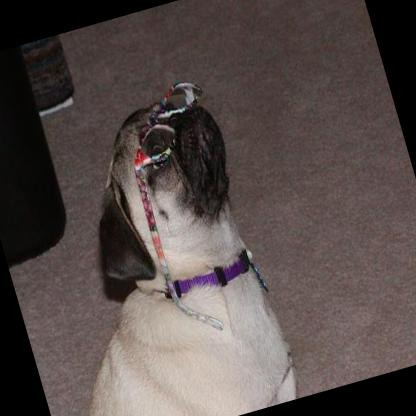pug: (0, 70, 305, 416)
